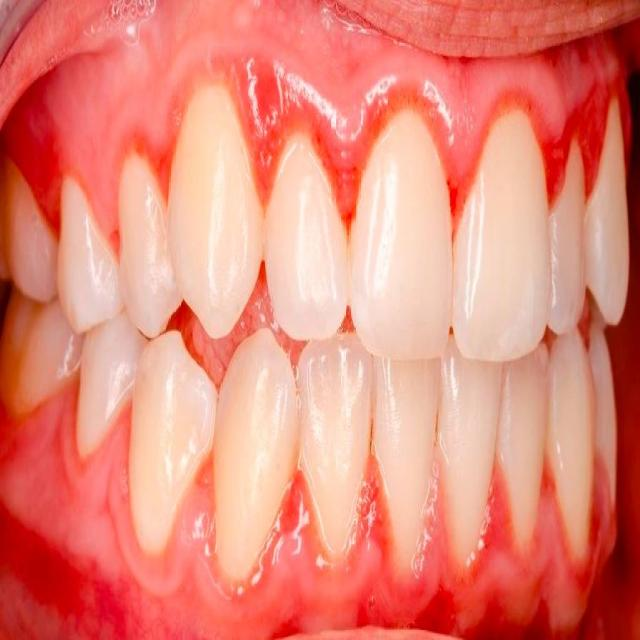1st Molar: (0, 299, 79, 420), (0, 162, 56, 304)
1st Premolar: (130, 334, 219, 560), (119, 152, 179, 339), (589, 328, 618, 503)
2nd Premolar: (56, 178, 119, 336), (76, 322, 141, 461)
Canine: (169, 80, 265, 334), (216, 326, 300, 593), (546, 335, 593, 561), (586, 100, 629, 322)
Central Incisor: (349, 107, 453, 362), (451, 107, 550, 362), (372, 359, 443, 583), (440, 340, 501, 573)
Lateral Incisor: (297, 338, 376, 567), (265, 134, 350, 342), (499, 345, 548, 553), (549, 142, 587, 334)
